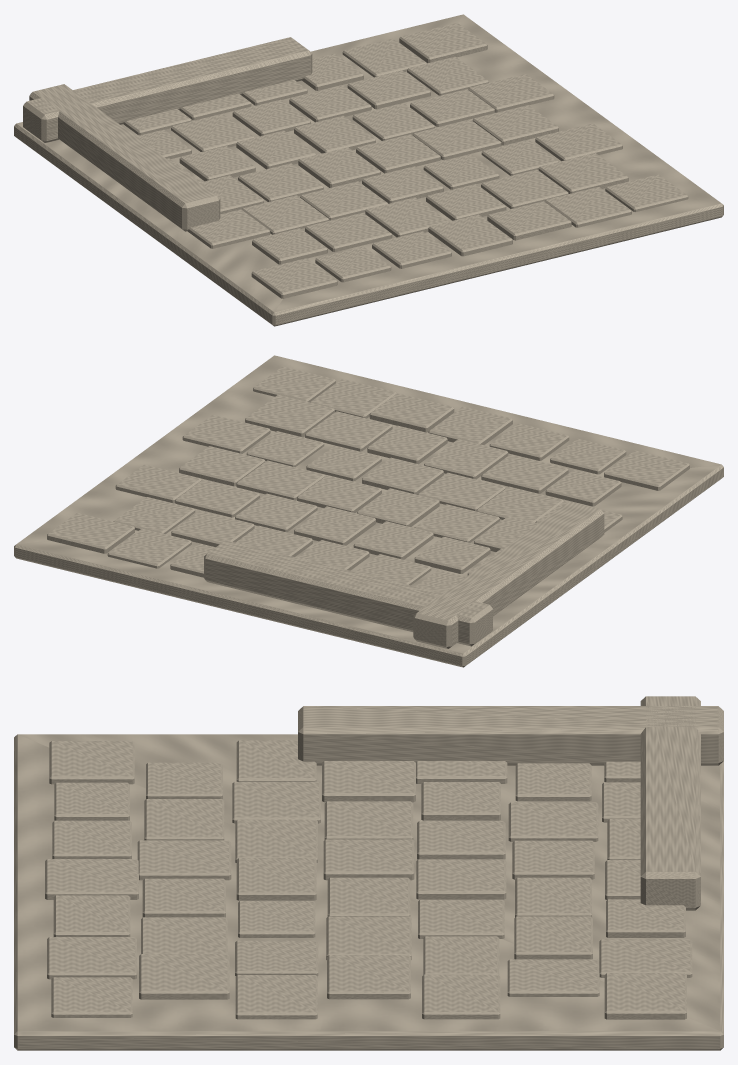
Rendered from fantasy-mmo-city-and-townsfolk-street-corner-tile-2d0d8192__32721.glb.
The picture shows the model from 3 angles, top to bottom: view 1: azimuth 30°, elevation 25°; view 2: azimuth 150°, elevation 25°; view 3: azimuth 270°, elevation 25°; orthographic projection. The views are drawn at different scales.
Visible parts, largest first — view 1: street-corner-tile; view 2: street-corner-tile; view 3: street-corner-tile.
Part boxes in pixels (box(x1,y1,x2,y2)): street-corner-tile: box(14, 14, 723, 326); street-corner-tile: box(14, 355, 723, 667); street-corner-tile: box(14, 696, 723, 1050).
Bounding box in the file's own units: 4 × 0.3599 × 4.
Materials: 1 (1 with a texture image).
